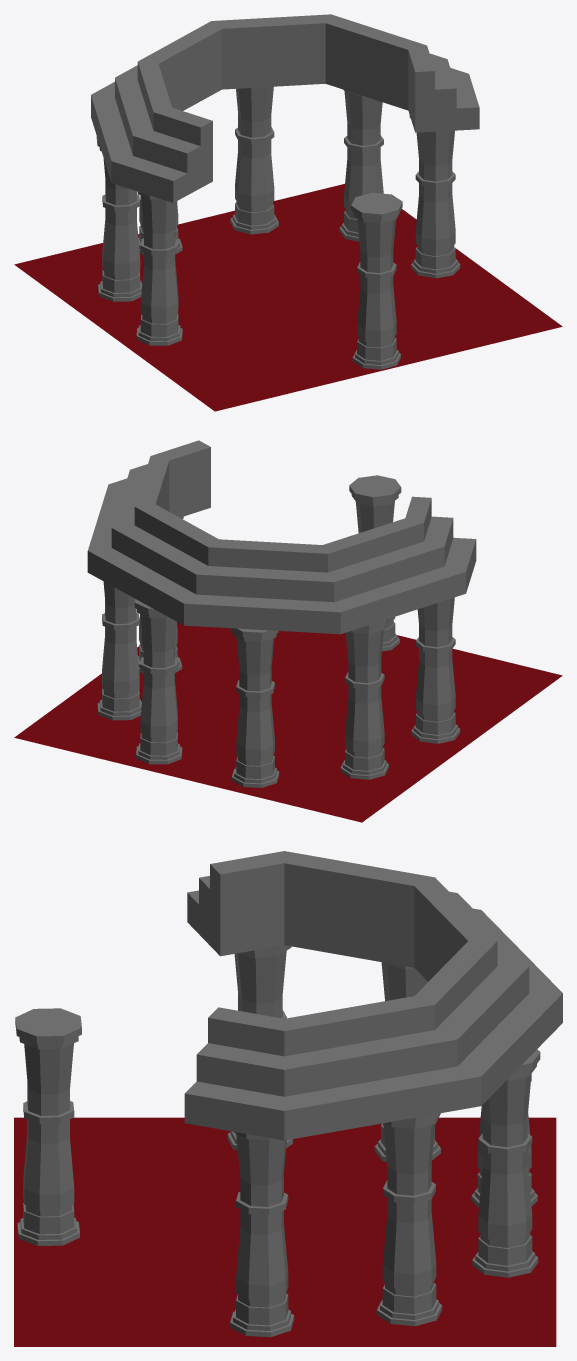
File: Collosseum.fbx
3 views of the same model, one above another, from view 1: azimuth 30°, elevation 25°; view 2: azimuth 150°, elevation 25°; view 3: azimuth 270°, elevation 25° (orthographic). The views are drawn at different scales.
Parts seen in each view (by area): view 1: Collosseum_Ground, Collosseum_Roof, Collosseum_Pillar1, Collosseum_Pillar7, Collosseum_Pillar5, Collosseum_Pillar2, Collosseum_Pillar3, Collosseum_Pillar6; view 2: Collosseum_Ground, Collosseum_Roof, Collosseum_Pillar4, Collosseum_Pillar3, Collosseum_Pillar5, Collosseum_Pillar2, Collosseum_Pillar6, Collosseum_Pillar1; view 3: Collosseum_Ground, Collosseum_Roof, Collosseum_Pillar1, Collosseum_Pillar6, Collosseum_Pillar5, Collosseum_Pillar7, Collosseum_Pillar2, Collosseum_Pillar3, Collosseum_Pillar4.
Boxes of the visible parts, box(x1,y1,x2,y2) form: Collosseum_Ground: box(14, 184, 562, 411); Collosseum_Roof: box(91, 14, 479, 202); Collosseum_Pillar1: box(351, 192, 402, 369); Collosseum_Pillar7: box(409, 115, 460, 278); Collosseum_Pillar5: box(230, 86, 278, 234); Collosseum_Pillar2: box(136, 192, 182, 345); Collosseum_Pillar3: box(96, 136, 142, 301); Collosseum_Pillar6: box(339, 89, 383, 241); Collosseum_Ground: box(14, 622, 562, 822); Collosseum_Roof: box(87, 440, 476, 634); Collosseum_Pillar4: box(230, 628, 279, 787); Collosseum_Pillar3: box(340, 618, 389, 779); Collosseum_Pillar5: box(134, 599, 182, 764); Collosseum_Pillar2: box(411, 597, 460, 743); Collosseum_Pillar6: box(97, 581, 141, 720); Collosseum_Pillar1: box(349, 475, 401, 651); Collosseum_Ground: box(14, 1117, 556, 1346); Collosseum_Roof: box(184, 851, 562, 1140); Collosseum_Pillar1: box(15, 1008, 81, 1245); Collosseum_Pillar6: box(376, 1113, 442, 1326); Collosseum_Pillar5: box(472, 1049, 540, 1277); Collosseum_Pillar7: box(230, 1131, 294, 1337); Collosseum_Pillar2: box(227, 945, 292, 1150); Collosseum_Pillar3: box(374, 962, 440, 1161); Collosseum_Pillar4: box(471, 1075, 537, 1207).
Bounding box in the file's own units: 2055 × 1189 × 2025.
